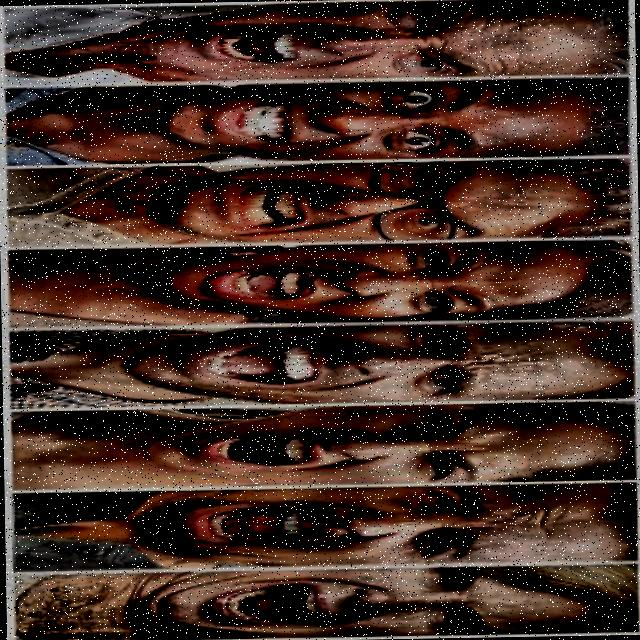angry: (0, 234, 640, 329), (0, 319, 640, 411), (0, 157, 638, 248), (2, 400, 638, 491), (1, 78, 637, 167), (27, 487, 640, 574), (4, 562, 640, 640)
